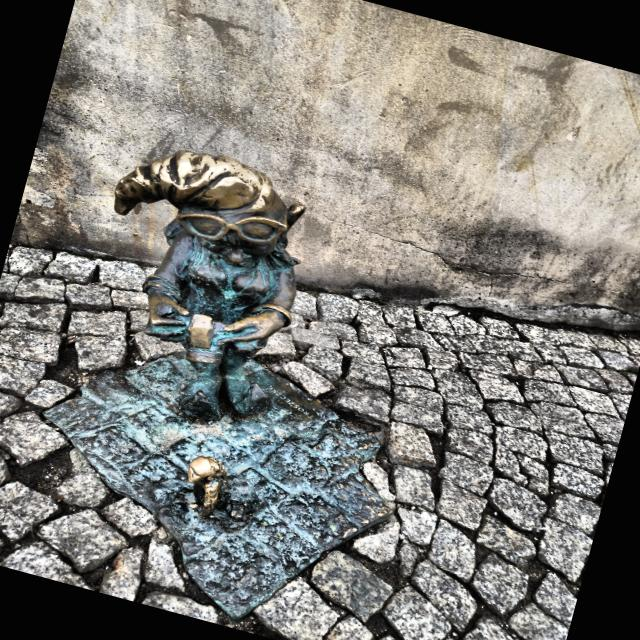Troszka i Adoratorek: (40, 151, 387, 622)
